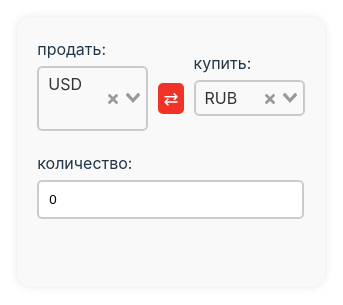
it: CurrencyConverter.vue › меняет валюты местами при нажатии на кнопку "поменять местами"
The width and height of the screenshot is (343, 305).
Click the button named "поменять местами" at x=171, y=99, box top-left (158, 83), bottom-right (184, 114)
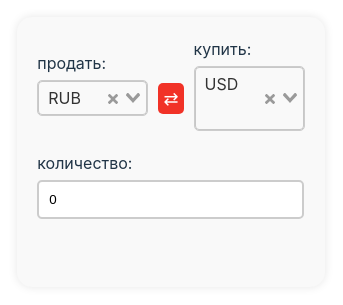
Expected: the text "RUB" is shown, top-left (48, 88), bottom-right (81, 108)
Expected: the text "USD" is shown, top-left (204, 74), bottom-right (238, 94)
